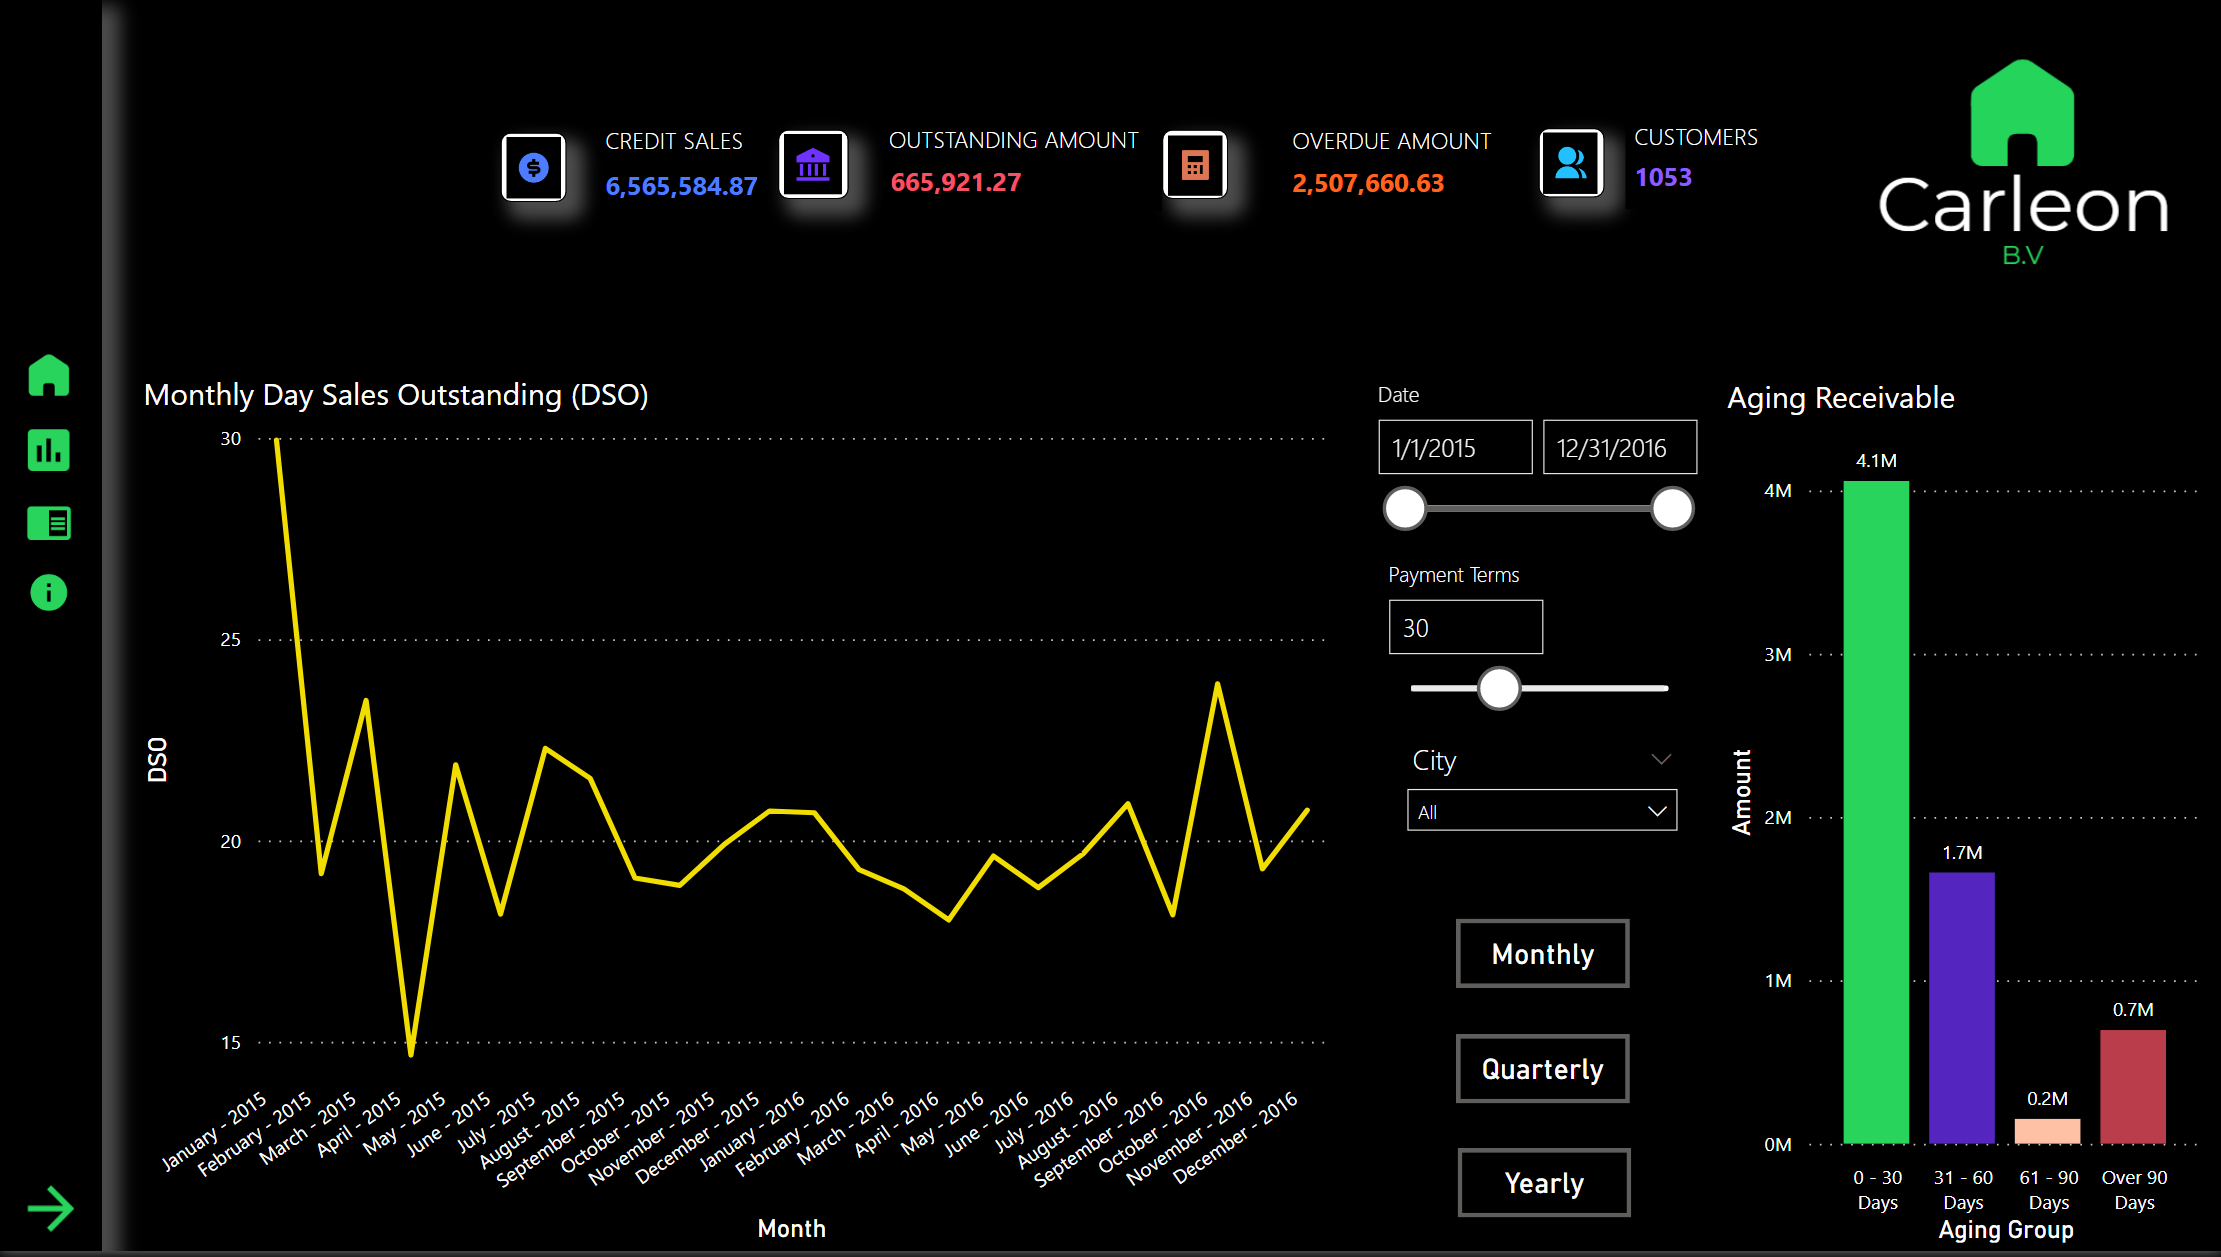

Layout of this report page (visuals, bound fields, positions):
{"tool":"powerbi","page":{"name":"HomePage","canvas":[1280,720],"ordinal":0},"visuals":[{"type":"basicShape","box":[0,0,59.9,720.1],"z":0,"group":"g7"},{"type":"group","id":"g1","title":"Group 2","box":[886.1,63.9,150.5,56.9],"z":0,"group":"g8"},{"type":"basicShape","box":[886.1,74.5,38.1,40.1],"z":0,"group":"g1"},{"type":"basicShape","box":[669,75.5,38,39.7],"z":0,"group":"g4"},{"type":"basicShape","box":[447.9,75.7,40.6,40.1],"z":0,"group":"g6"},{"type":"basicShape","box":[288.8,77.3,38.1,40.1],"z":0,"group":"g3"},{"type":"multiRowCard","fields":{"Values":["_Measures.KPI Customers"]},"box":[935.7,86.3,100.9,34.5],"z":0,"group":"g2"},{"type":"actionButton","box":[838.3,529,100.2,39.9],"z":0,"group":"g5"},{"type":"group","id":"g2","title":"Group 10","box":[935.7,63.9,100.9,56.9],"z":1000,"group":"g1"},{"type":"textbox","box":[935.7,63.9,93.2,30.2],"z":1000,"group":"g2"},{"type":"group","id":"g3","title":"Group 8","box":[288.8,66.8,159.1,57],"z":1000,"group":"g8"},{"type":"multiRowCard","fields":{"Values":["_Measures.KPI Balance"]},"box":[507.3,89.2,116.8,32.7],"z":1000,"group":"g6"},{"type":"multiRowCard","fields":{"Values":["_Measures.KPI Overdue"]},"box":[738.9,90.1,103.5,31.9],"z":1000,"group":"g4"},{"type":"multiRowCard","fields":{"Values":["_Measures.Total Receivables"]},"box":[344,91.6,104.4,31.9],"z":1000,"group":"g3"},{"type":"image","box":[12.1,198.4,34.5,37.1],"z":1000,"group":"g7"},{"type":"slicer","fields":{"Values":["paymentTerms.paymentTerms"]},"box":[786.5,317.7,194.9,103.5],"z":1000,"group":"g5"},{"type":"textbox","box":[506.8,65.9,162.1,31.4],"z":2000,"group":"g6"},{"type":"textbox","box":[344,66.8,104.1,30.5],"z":2000,"group":"g3"},{"type":"group","id":"g4","title":"Group 9","box":[669,66.8,207.3,55],"z":2000,"group":"g8"},{"type":"textbox","box":[738.7,66.8,137.5,31.4],"z":2000,"group":"g4"},{"type":"image","box":[889.1,77,31.1,35.4],"z":2000,"group":"g1"},{"type":"group","id":"g5","title":"Group 5","box":[780.6,213.9,203.6,487.3],"z":2000},{"type":"image","box":[7.8,238.1,42.3,43.1],"z":2000,"group":"g7"},{"type":"actionButton","box":[838.3,595.1,100.2,39.9],"z":2000,"group":"g5"},{"type":"group","id":"g6","title":"Group 7","box":[447.9,65.9,221,56],"z":3000,"group":"g8"},{"type":"image","box":[451.1,78.1,33.1,34.5],"z":3000,"group":"g6"},{"type":"image","box":[672.5,79,31.1,34.5],"z":3000,"group":"g4"},{"type":"image","box":[292.2,79.6,31.1,35.4],"z":3000,"group":"g3"},{"type":"slicer","fields":{"Values":["dimDates.Date"]},"box":[780.6,213.9,203.3,108.1],"z":3000,"group":"g5"},{"type":"lineChart","title":"Monthly Day Sales Outstanding (DSO)","fields":{"Category":["dimDates.dMonth"],"Y":["_Measures.DSO"]},"box":[78.6,215.1,689.6,504.9],"z":3000},{"type":"image","box":[10.4,281.2,38,39.7],"z":3000,"group":"g7"},{"type":"image","box":[1074.7,12.1,182,167.3],"z":4000},{"type":"image","box":[11.2,322.6,35.4,37.1],"z":4000,"group":"g7"},{"type":"actionButton","box":[839.1,661,100.2,39.9],"z":4000,"group":"g5"},{"type":"group","id":"g7","title":"Group 3","box":[0,0,59.9,720.2],"z":5000},{"type":"slicer","fields":{"Values":["dimCust.City"]},"box":[800.3,421.2,175.1,69.9],"z":5000,"group":"g5"},{"type":"image","box":[5.2,670.2,50,50],"z":5000,"group":"g7"},{"type":"group","id":"g8","title":"Group 11","box":[288.8,63.9,747.6,59.9],"z":6000},{"type":"clusteredColumnChart","title":"Aging Receivable","fields":{"Category":["dimAging.AgeGroup"],"Y":["_Measures.Aging Receivable Menu"]},"box":[989.3,216.5,283.8,503.7],"z":7000}]}

Visuals, with their boxes on the page's 1280x720 design canvas (x1, y1, x2, y2). These are canvas units, not pixel positions in the 2221x1257 screenshot, which may show the page scaled, cropped or inside an application window:
basicShape: <bbox>0, 0, 60, 720</bbox>
"Group 2" group: <bbox>886, 64, 1037, 121</bbox>
basicShape: <bbox>886, 74, 924, 115</bbox>
basicShape: <bbox>669, 76, 707, 115</bbox>
basicShape: <bbox>448, 76, 488, 116</bbox>
basicShape: <bbox>289, 77, 327, 117</bbox>
multiRowCard - _Measures.KPI Customers: <bbox>936, 86, 1037, 121</bbox>
actionButton: <bbox>838, 529, 938, 569</bbox>
"Group 10" group: <bbox>936, 64, 1037, 121</bbox>
textbox: <bbox>936, 64, 1029, 94</bbox>
"Group 8" group: <bbox>289, 67, 448, 124</bbox>
multiRowCard - _Measures.KPI Balance: <bbox>507, 89, 624, 122</bbox>
multiRowCard - _Measures.KPI Overdue: <bbox>739, 90, 842, 122</bbox>
multiRowCard - _Measures.Total Receivables: <bbox>344, 92, 448, 124</bbox>
image: <bbox>12, 198, 47, 236</bbox>
slicer - paymentTerms.paymentTerms: <bbox>786, 318, 981, 421</bbox>
textbox: <bbox>507, 66, 669, 97</bbox>
textbox: <bbox>344, 67, 448, 97</bbox>
"Group 9" group: <bbox>669, 67, 876, 122</bbox>
textbox: <bbox>739, 67, 876, 98</bbox>
image: <bbox>889, 77, 920, 112</bbox>
"Group 5" group: <bbox>781, 214, 984, 701</bbox>
image: <bbox>8, 238, 50, 281</bbox>
actionButton: <bbox>838, 595, 938, 635</bbox>
"Group 7" group: <bbox>448, 66, 669, 122</bbox>
image: <bbox>451, 78, 484, 113</bbox>
image: <bbox>672, 79, 704, 114</bbox>
image: <bbox>292, 80, 323, 115</bbox>
slicer - dimDates.Date: <bbox>781, 214, 984, 322</bbox>
"Monthly Day Sales Outstanding (DSO)" lineChart: <bbox>79, 215, 768, 720</bbox>
image: <bbox>10, 281, 48, 321</bbox>
image: <bbox>1075, 12, 1257, 179</bbox>
image: <bbox>11, 323, 47, 360</bbox>
actionButton: <bbox>839, 661, 939, 701</bbox>
"Group 3" group: <bbox>0, 0, 60, 720</bbox>
slicer - dimCust.City: <bbox>800, 421, 975, 491</bbox>
image: <bbox>5, 670, 55, 720</bbox>
"Group 11" group: <bbox>289, 64, 1036, 124</bbox>
"Aging Receivable" clusteredColumnChart: <bbox>989, 216, 1273, 720</bbox>
